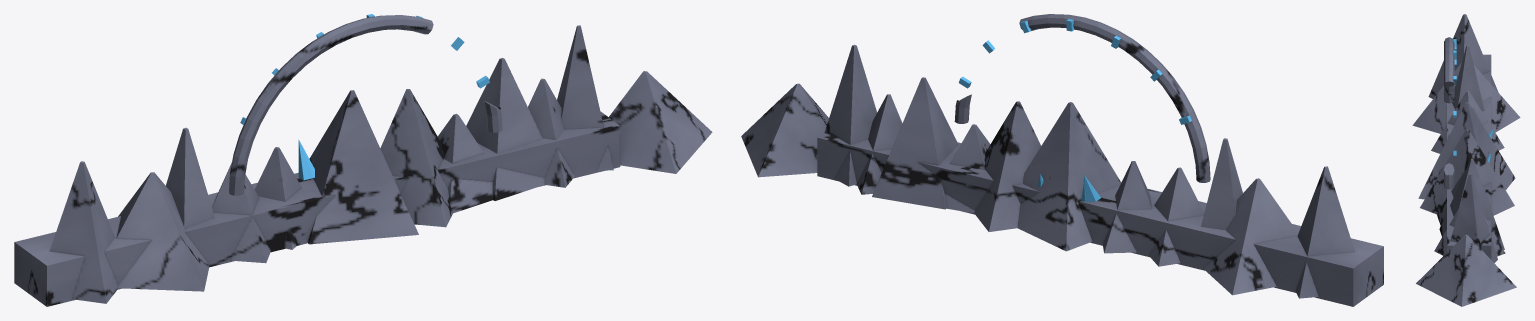
The model's file is BG_Far_Peaks.obj.
The picture shows the model from 3 angles, left to right: view 1: azimuth 30°, elevation 25°; view 2: azimuth 150°, elevation 25°; view 3: azimuth 270°, elevation 25°; orthographic projection. The views are drawn at different scales.
Visible parts, largest first — view 1: BG_Far_Peaks; view 2: BG_Far_Peaks; view 3: BG_Far_Peaks.
Part boxes in pixels (left/top/right/bottom): BG_Far_Peaks: left=14, top=14, right=712, bottom=306; BG_Far_Peaks: left=741, top=14, right=1383, bottom=306; BG_Far_Peaks: left=1412, top=14, right=1520, bottom=306.
Bounding box in the file's own units: 0.9985 × 0.2946 × 0.2027.
1 material, 1 textured.
